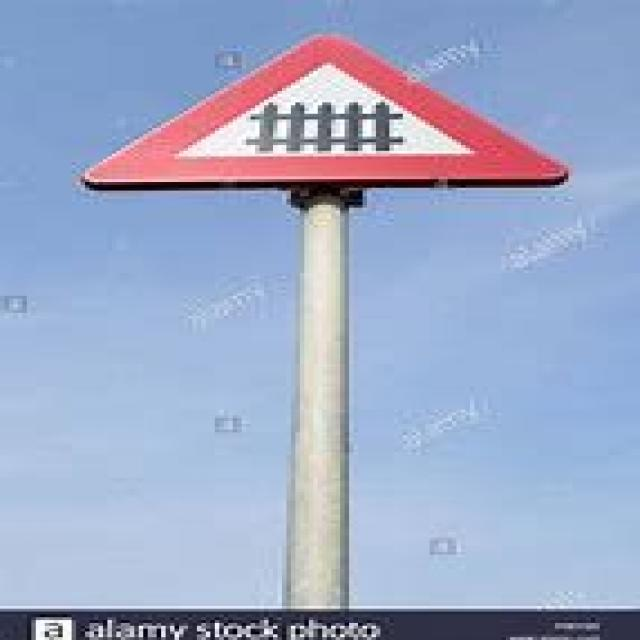GUARDED_LEVEL_CROSSING: (76, 31, 564, 185)
